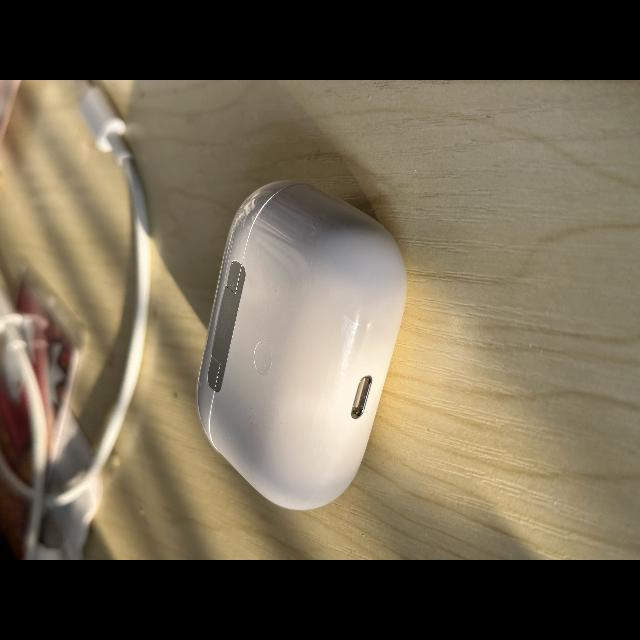AirPods Pro: (197, 180, 407, 510)
